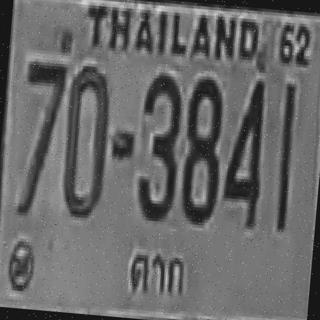N00: (58, 62, 112, 216)
N01: (272, 80, 297, 229)
N03: (134, 70, 184, 218)
N04: (220, 74, 268, 225)
N07: (14, 58, 66, 215), (18, 58, 66, 171)
N08: (178, 74, 225, 222)
P69: (122, 244, 191, 305)
